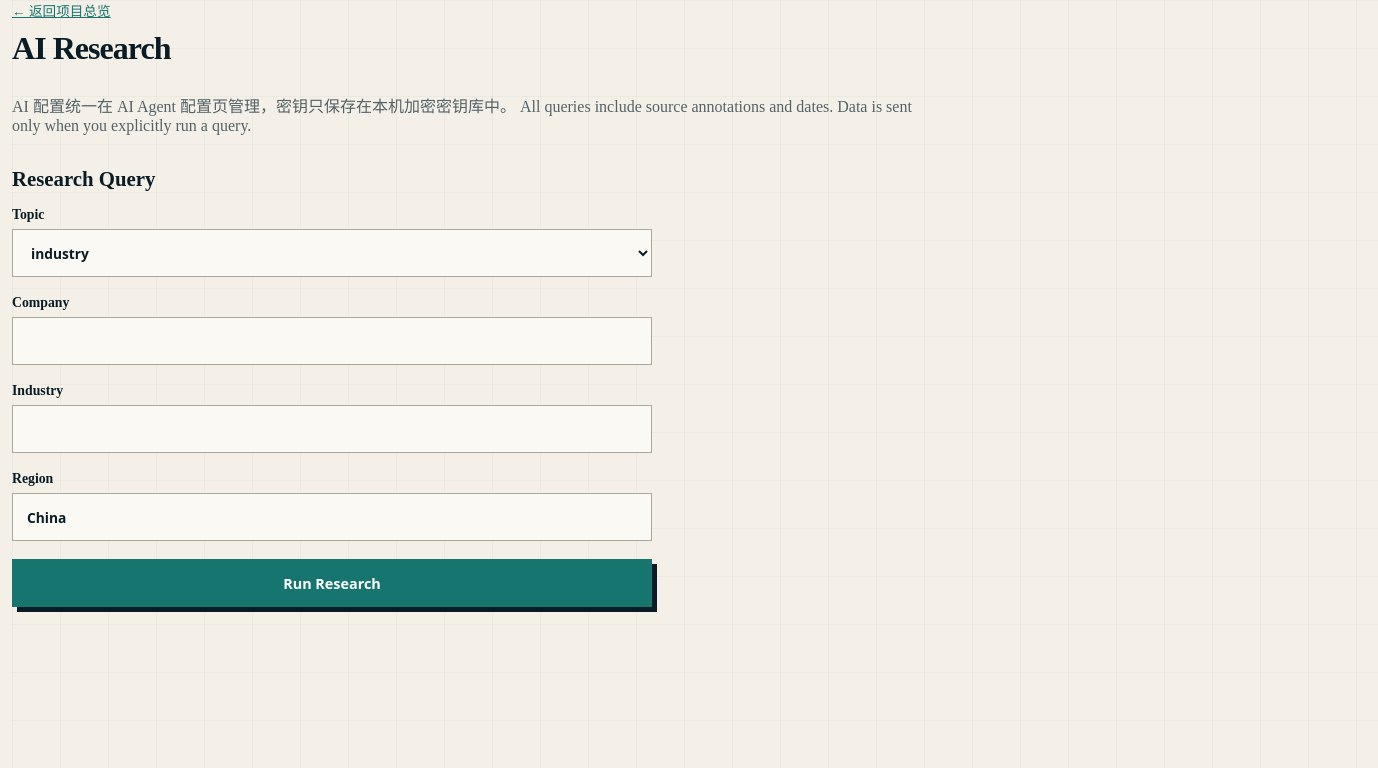
ResearchPage via AI Gateway › displays the normalized Chinese message when the Gateway fails
Type "测试公司" into the field labelled "Company" at (332, 341), box 12,317 -> 652,365
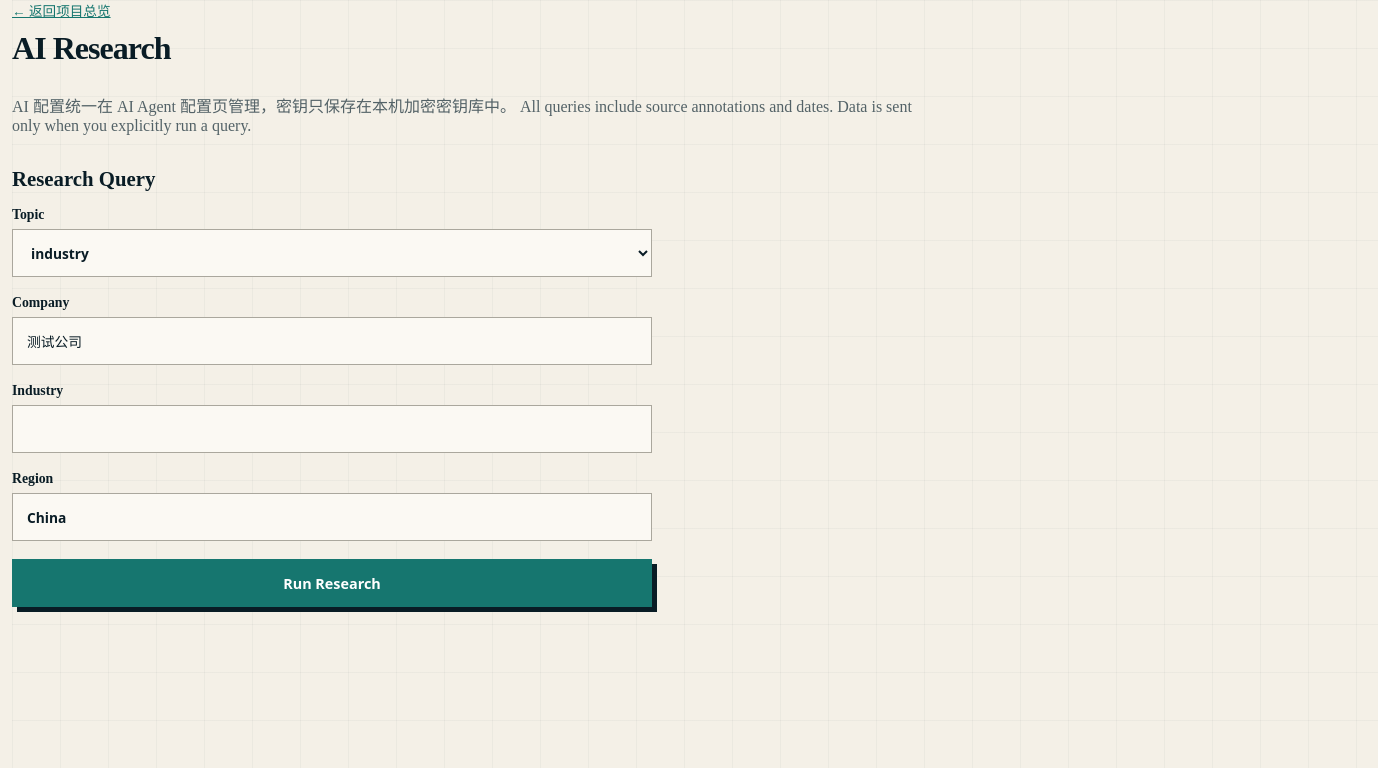
Click the button "Run Research" at (332, 583), box 12,559 -> 652,607
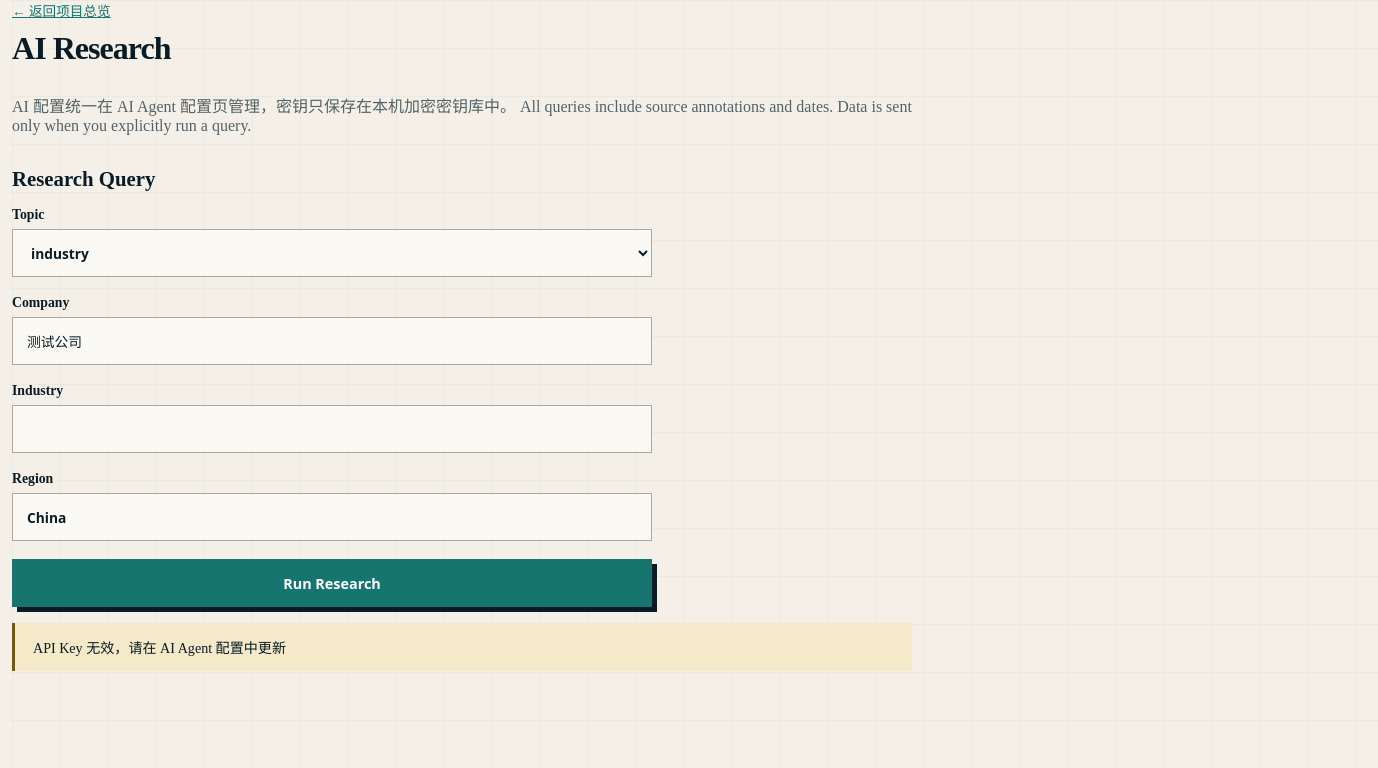
expect the text "API Key 无效，请在 AI Agent 配置中更新" is shown: met, box 12,623 -> 912,671
